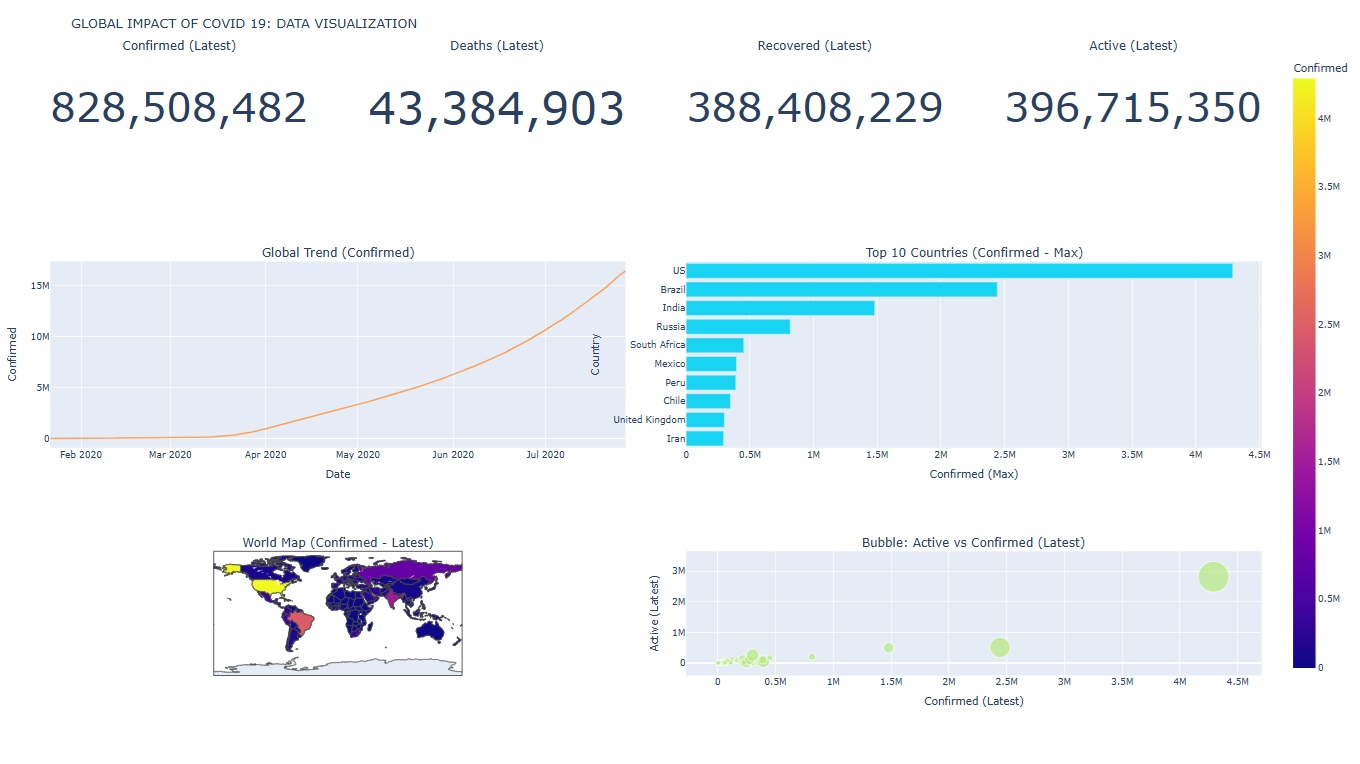

The page's visual inventory and layout, read from the dashboard file:
{"tool":"tableau","page":{"name":"GGLOBAL IMPACT OF COVID 19: DATA VISUALIZATION","canvas":[1000,1000],"units":"permille","ordinal":0},"visuals":[{"type":"text","box":[6.1,15.2,987.9,57]},{"type":"worksheet","title":"CONFIRMED","mark":"Text","box":[6.1,72.1,199.6,166]},{"type":"worksheet","title":"DEATH","mark":"Text","box":[205.6,72.1,203.9,166]},{"type":"worksheet","title":"ACTIVE","mark":"Text","box":[409.5,72.1,202.4,166]},{"type":"worksheet","title":"RECOVERED","mark":"Text","box":[611.9,72.1,202.5,166]},{"type":"filter","title":"Top 10 Countries","param":"[federated.0cqeoo61s9j46j17lc3vq15ppq27].[none:Country/Region:nk]","box":[814.4,72.1,179.6,193.1]},{"type":"worksheet","title":"Global Trend Confirmed","mark":"Line","rows":["Confirmed"],"cols":["Date"],"box":[6.1,238.2,216.7,399.3]},{"type":"worksheet","title":"Global Trend Death","mark":"Line","rows":["Deaths"],"cols":["Date"],"box":[222.7,238.2,187.4,398.5]},{"type":"worksheet","title":"Global Trend Recoverd","mark":"Line","rows":["Recovered"],"cols":["Date"],"box":[410.2,238.2,202.1,398.5]},{"type":"worksheet","title":"Map (Confirmed by Country)","mark":"Multipolygon","rows":["Lat"],"cols":["Long"],"box":[612.3,238.2,202.1,398.5]},{"type":"legend","title":"Top 10 Countries","param":"[federated.0cqeoo61s9j46j17lc3vq15ppq27].[none:Country/Region:nk]","box":[814.4,265.3,179.6,193.1]},{"type":"legend","title":"Map (Confirmed by Country)","param":"[federated.0cqeoo61s9j46j17lc3vq15ppq27].[sum:Confirmed:qk]","box":[814.4,458.4,179.6,123.1]},{"type":"legend","title":"Map (Confirmed by Country)","param":"[federated.0cqeoo61s9j46j17lc3vq15ppq27].[sum:Confirmed:qk]","box":[814.4,581.5,179.6,193.1]},{"type":"worksheet","title":"Top 10 Countries","mark":"Bar","rows":["Confirmed"],"cols":["Country/Region"],"box":[222.7,636.6,591.7,348.2]},{"type":"worksheet","title":"WHO Region Summary","mark":"Automatic","rows":["WHO Region"],"cols":["Confirmed"],"box":[6.1,637.5,216.7,347.4]},{"type":"legend","title":"WHO Region Summary","param":"[federated.0cqeoo61s9j46j17lc3vq15ppq27].[none:WHO Region:nk]","box":[814.4,774.6,179.6,210.2]}]}

Visuals, with their boxes on the dashboard's canvas, which has no fixed pixel size, in thousandths of its width and height (x1, y1, x2, y2). These are canvas units, not pixel positions in the 1360x764 screenshot, which may show the page scaled, cropped or inside an application window:
text: select_region(6, 15, 994, 72)
"CONFIRMED" worksheet (Text marks): select_region(6, 72, 206, 238)
"DEATH" worksheet (Text marks): select_region(206, 72, 410, 238)
"ACTIVE" worksheet (Text marks): select_region(410, 72, 612, 238)
"RECOVERED" worksheet (Text marks): select_region(612, 72, 814, 238)
"Top 10 Countries" filter: select_region(814, 72, 994, 265)
"Global Trend Confirmed" worksheet (Line marks): select_region(6, 238, 223, 638)
"Global Trend Death" worksheet (Line marks): select_region(223, 238, 410, 637)
"Global Trend Recoverd" worksheet (Line marks): select_region(410, 238, 612, 637)
"Map (Confirmed by Country)" worksheet (Multipolygon marks): select_region(612, 238, 814, 637)
"Top 10 Countries" legend: select_region(814, 265, 994, 458)
"Map (Confirmed by Country)" legend: select_region(814, 458, 994, 582)
"Map (Confirmed by Country)" legend: select_region(814, 582, 994, 775)
"Top 10 Countries" worksheet (Bar marks): select_region(223, 637, 814, 985)
"WHO Region Summary" worksheet: select_region(6, 638, 223, 985)
"WHO Region Summary" legend: select_region(814, 775, 994, 985)
